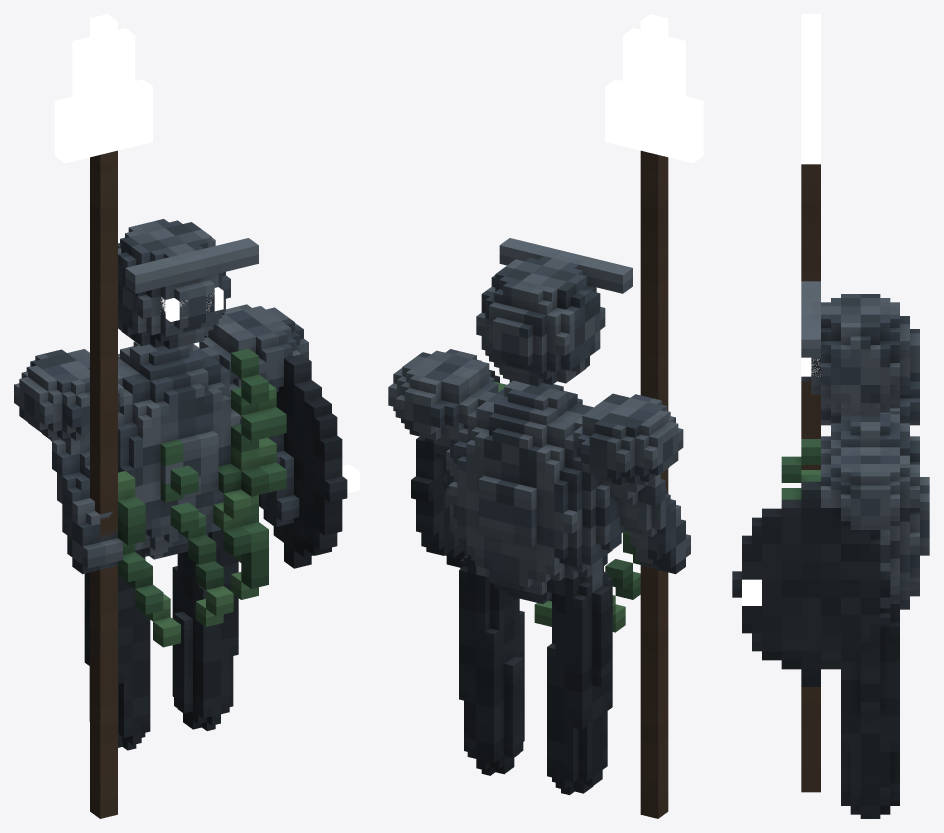
The model's file is u_lancier.glb.
The picture shows the model from 3 angles, left to right: view 1: azimuth 30°, elevation 25°; view 2: azimuth 150°, elevation 25°; view 3: azimuth 270°, elevation 25°; orthographic projection. The views are drawn at different scales.
Visible parts, largest first — view 1: lancier_body, lancier_weapon, lancier_weaponglow, lancier_glow; view 2: lancier_body, lancier_weapon, lancier_weaponglow; view 3: lancier_body, lancier_weapon, lancier_weaponglow, lancier_glow.
Boxes of the visible parts, <box> form: lancier_body: <box>14,219,347,750</box>; lancier_weapon: <box>90,150,117,818</box>; lancier_weaponglow: <box>54,14,152,163</box>; lancier_glow: <box>161,287,359,493</box>; lancier_body: <box>388,238,690,795</box>; lancier_weapon: <box>640,150,668,818</box>; lancier_weaponglow: <box>605,14,703,163</box>; lancier_body: <box>732,281,929,818</box>; lancier_weapon: <box>801,164,820,792</box>; lancier_weaponglow: <box>801,14,820,164</box>; lancier_glow: <box>742,357,820,605</box>.
Bounding box in the file's own units: 0.75 × 2.15 × 0.5.
